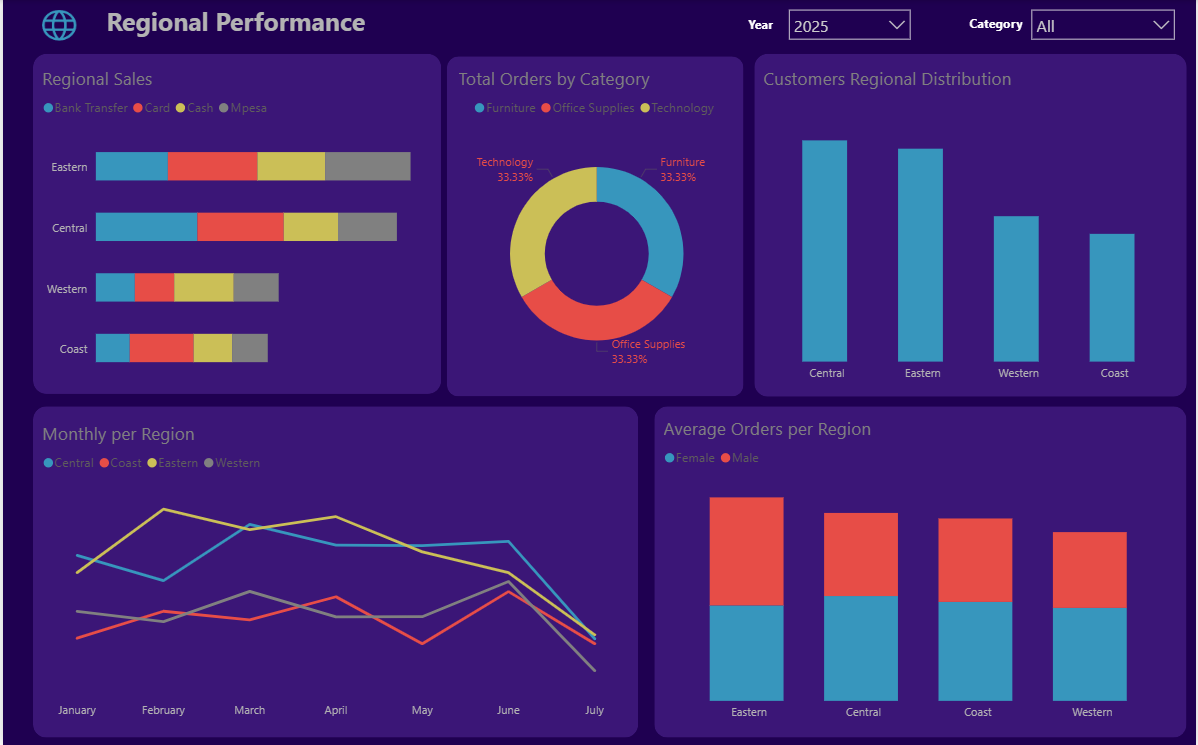

What the dashboard file says about the page in this screenshot:
{"tool":"powerbi","page":{"name":"Regional Performance","canvas":[1280,800],"ordinal":1},"visuals":[{"type":"shape","box":[476.2,60.4,318.4,365],"z":0},{"type":"shape","box":[31.6,57.6,437.7,365],"z":1000},{"type":"barChart","title":"Regional Sales","fields":{"Category":["Stores.Region"],"Y":["All Measures.Total Sales"],"Series":["Orders.PaymentMode"]},"box":[31.6,60.4,437.7,367.8],"z":2000},{"type":"slicer","fields":{"Values":["Orders.OrderDate.Variation.Date Hierarchy.Year"]},"box":[832.9,0,150.9,49.4],"z":3000},{"type":"shape","box":[31.6,435,649.1,355.4],"z":4000},{"type":"shape","box":[805.5,57.6,463.8,367.8],"z":5000},{"type":"shape","box":[698.5,435,570.8,355.4],"z":6000},{"type":"donutChart","fields":{"Category":["Products.Category"],"Y":["All Measures.Total Orders"]},"box":[478.9,60.4,315.6,365],"z":7000},{"type":"lineChart","title":"Monthly per Region","fields":{"Category":["Orders.OrderDate.Variation.Date Hierarchy.Month"],"Y":["All Measures.Total Sales"],"Series":["Stores.Region"]},"box":[31.6,440.5,649.1,344.4],"z":8000},{"type":"columnChart","title":"Average Orders per Region","fields":{"Category":["Stores.Region"],"Series":["Customers.Gender"],"Y":["All Measures.Average Order Amount"]},"box":[698.5,435,570.8,351.3],"z":9000},{"type":"slicer","fields":{"Values":["Customers.City"]},"box":[1092.3,0,174.3,49.4],"z":10000},{"type":"textbox","box":[1005.8,11,93.3,30.2],"z":11000},{"type":"textbox","box":[779.4,12.3,52.1,30.2],"z":12000},{"type":"textbox","box":[105.7,0,590.1,57.6],"z":13000},{"type":"clusteredColumnChart","title":"Customers Regional Distribution","fields":{"Category":["Stores.Region"],"Y":["CountNonNull(Orders.CustomerID)"]},"box":[805.5,60.4,463.8,362.3],"z":14000},{"type":"image","box":[32.9,2.7,53.5,49.4],"z":15000}]}

Visuals, with their boxes in screenshot pixels (x1, y1, x2, y2), scaled from the page's 1280x800 canvas onto the 1198x745 screenshot:
shape: {"left": 446, "top": 56, "right": 744, "bottom": 396}
shape: {"left": 30, "top": 54, "right": 439, "bottom": 394}
"Regional Sales" barChart: {"left": 30, "top": 56, "right": 439, "bottom": 399}
slicer - Orders.OrderDate.Variation.Date Hierarchy.Year: {"left": 780, "top": 0, "right": 921, "bottom": 46}
shape: {"left": 30, "top": 405, "right": 637, "bottom": 736}
shape: {"left": 754, "top": 54, "right": 1188, "bottom": 396}
shape: {"left": 654, "top": 405, "right": 1188, "bottom": 736}
donutChart - Products.Category x All Measures.Total Orders: {"left": 448, "top": 56, "right": 744, "bottom": 396}
"Monthly per Region" lineChart: {"left": 30, "top": 410, "right": 637, "bottom": 731}
"Average Orders per Region" columnChart: {"left": 654, "top": 405, "right": 1188, "bottom": 732}
slicer - Customers.City: {"left": 1022, "top": 0, "right": 1185, "bottom": 46}
textbox: {"left": 941, "top": 10, "right": 1029, "bottom": 38}
textbox: {"left": 729, "top": 11, "right": 778, "bottom": 40}
textbox: {"left": 99, "top": 0, "right": 651, "bottom": 54}
"Customers Regional Distribution" clusteredColumnChart: {"left": 754, "top": 56, "right": 1188, "bottom": 394}
image: {"left": 31, "top": 3, "right": 81, "bottom": 49}
